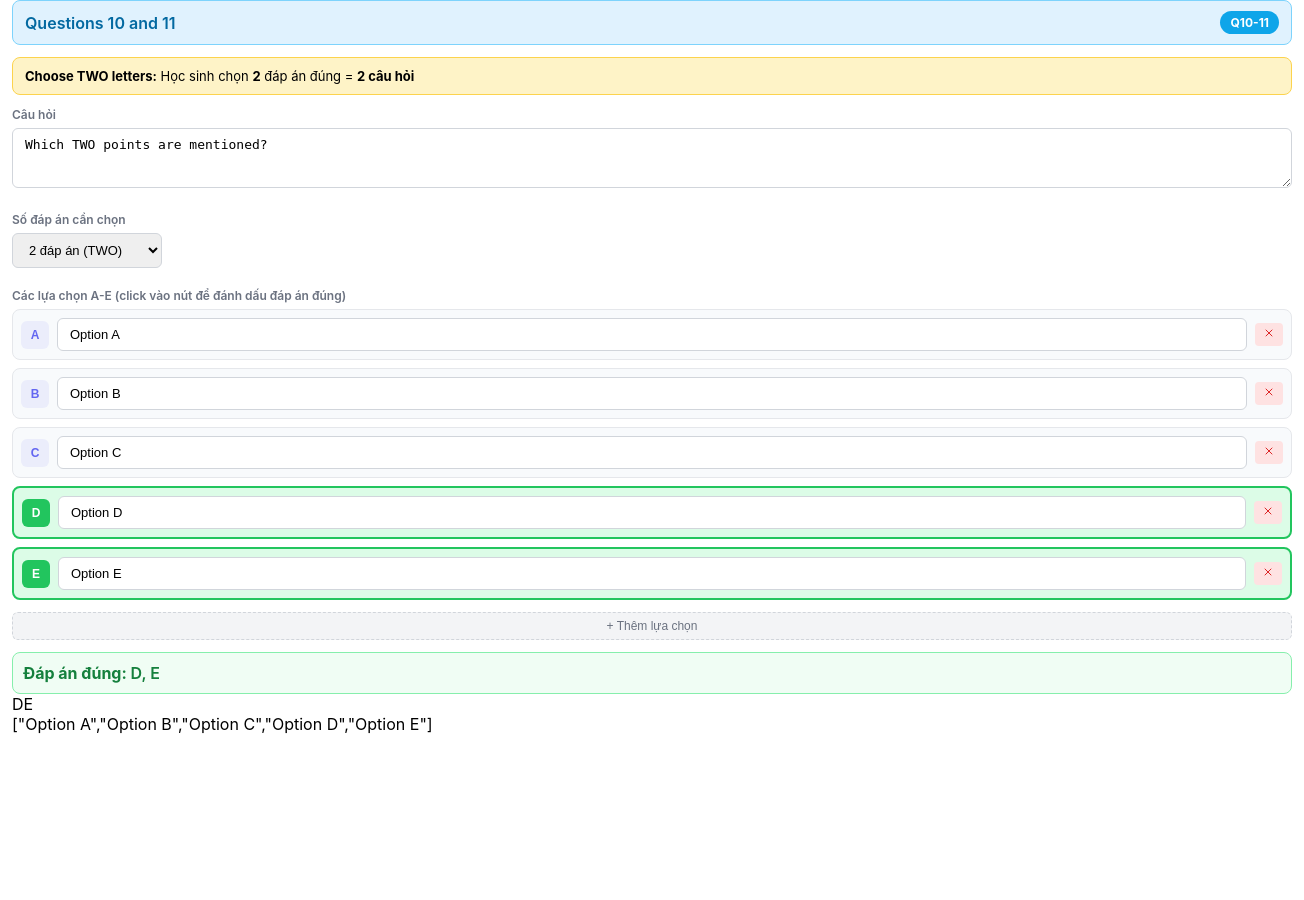
Test: MultiSelectQuestion loads legacy DE answers into the shared editor safely
Expected: the text "D, E" is shown, [131, 663, 160, 683]
Expected: the text with test id "raw-correct-answer" reads "DE", [12, 694, 33, 714]
What coordinates should you click on to do the following:
click the button "D"
I would click on:
 (36, 512)
Its box is [22, 498, 50, 526].
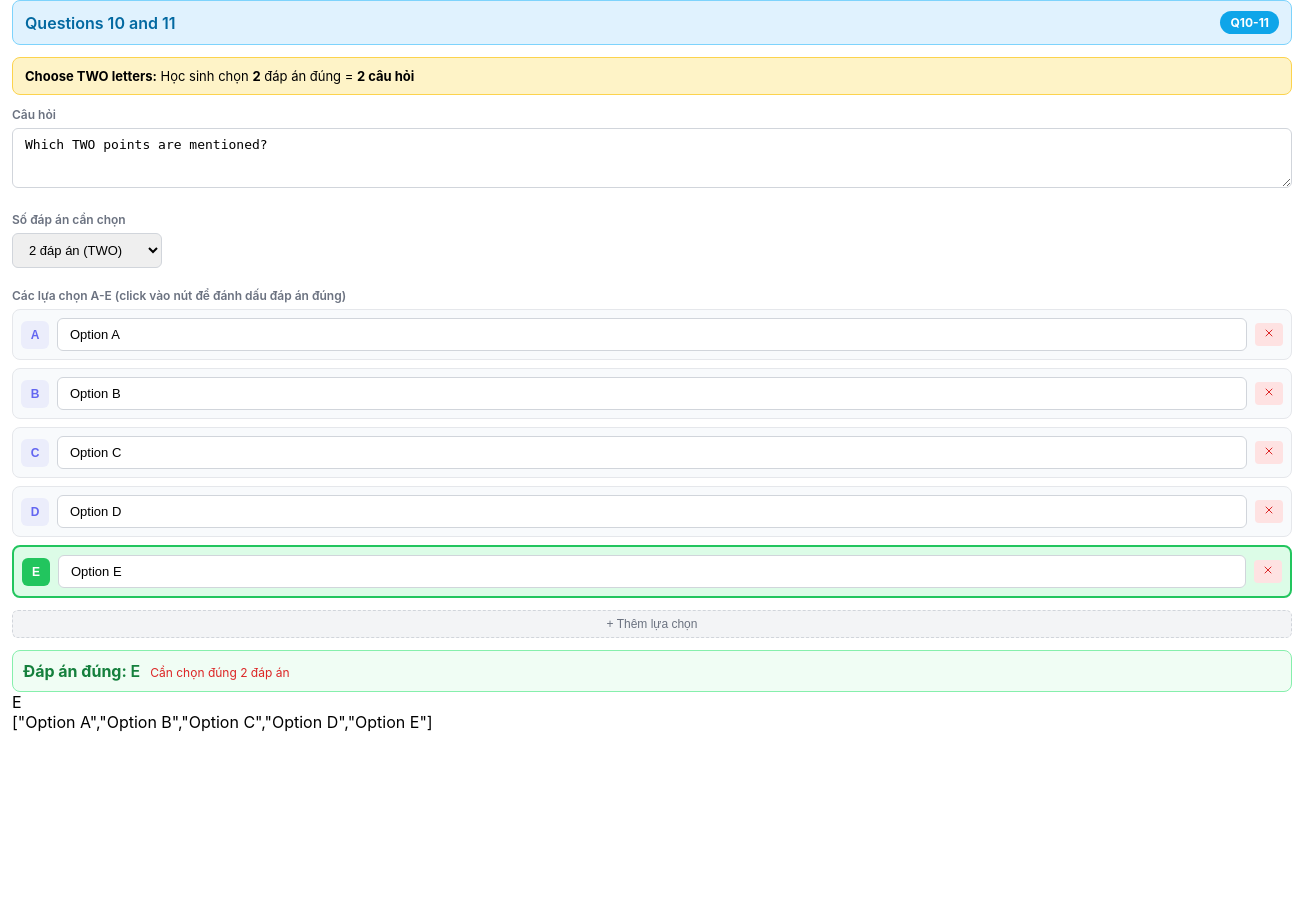
Expected: the text with test id "raw-correct-answer" reads "E", [12, 692, 22, 712]
What coordinates should you click on to do the following:
click the button "B"
I would click on:
 (35, 394)
Its box is [21, 380, 49, 408].
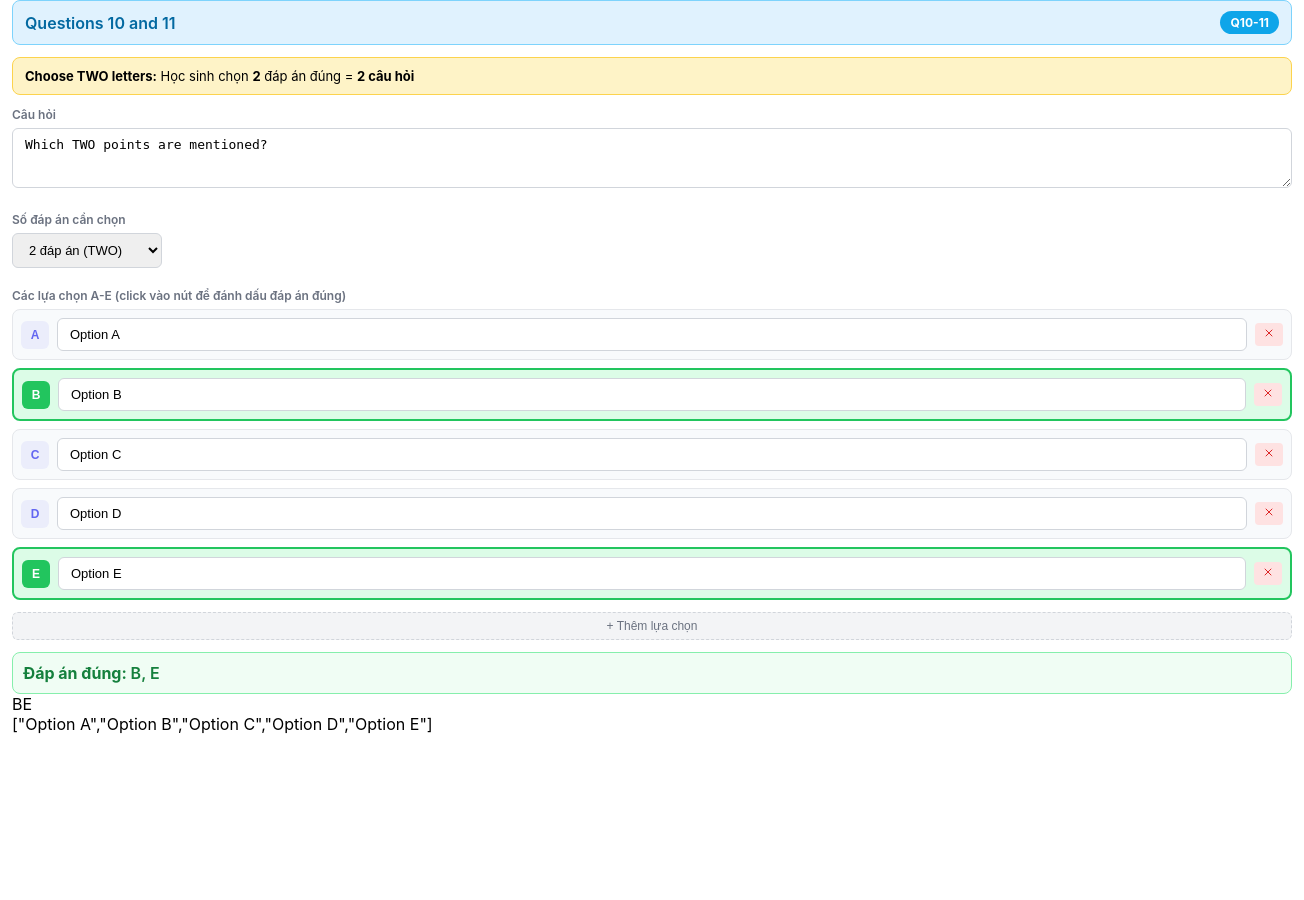
Expected: the text with test id "raw-correct-answer" reads "BE", [12, 694, 32, 714]
